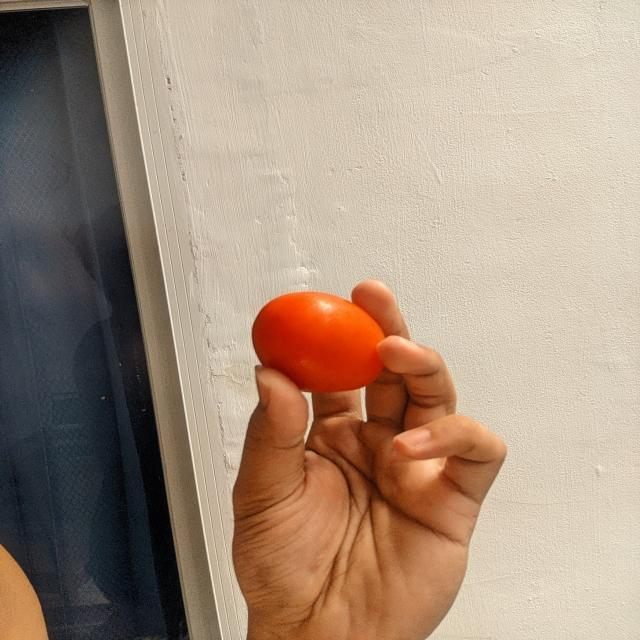Fresh Tomato: (250, 290, 388, 394)
